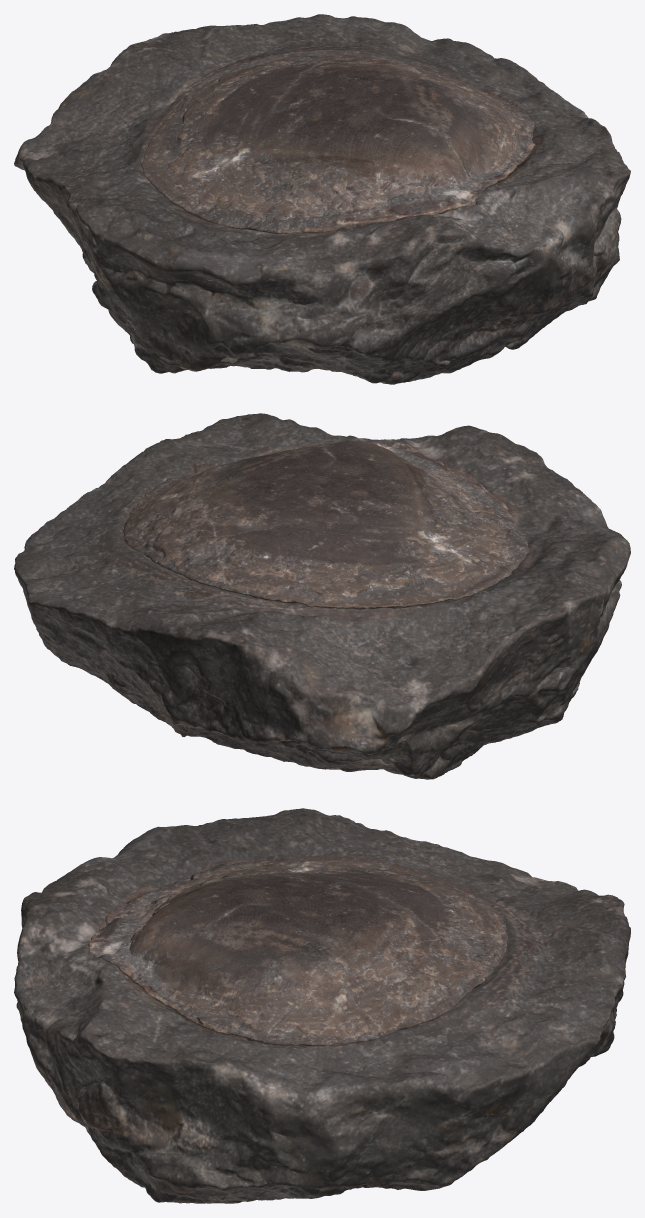
File: EWS0004008.glb
3 renders of one model, top to bottom at view 1: azimuth 30°, elevation 25°; view 2: azimuth 150°, elevation 25°; view 3: azimuth 270°, elevation 25°, orthographic. The views are drawn at different scales.
Parts seen in each view (by area): view 1: outer, new_inner; view 2: outer, new_inner; view 3: outer, new_inner.
Boxes of the visible parts, bbox=[...] form: outer: bbox=[14, 14, 630, 384]; new_inner: bbox=[141, 53, 535, 233]; outer: bbox=[14, 413, 630, 779]; new_inner: bbox=[123, 440, 529, 609]; outer: bbox=[14, 808, 630, 1203]; new_inner: bbox=[88, 855, 507, 1046].
Size of the model in its own units: 0.0627 by 0.0276 by 0.0603.
Materials: 2 (2 with a texture image).
